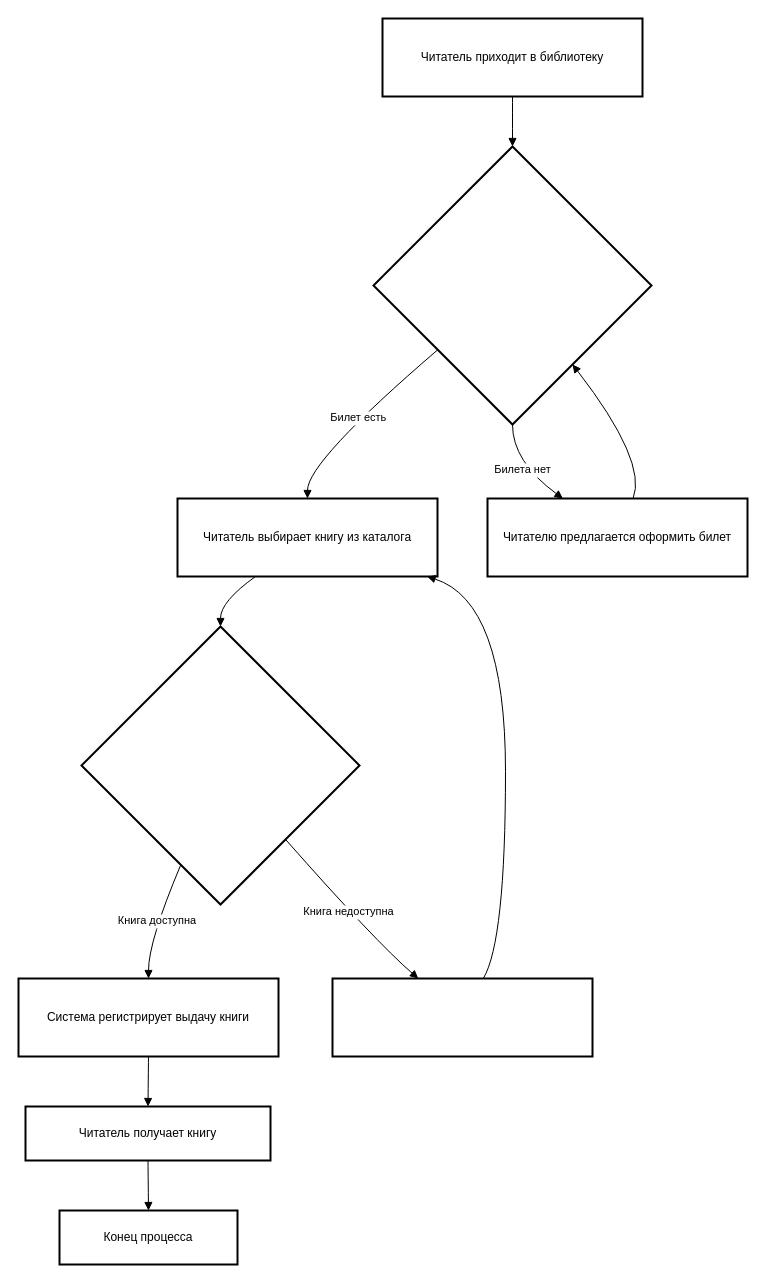
This 765x1282 diagram has some shape labels left out. Each missing label, with the centre of its shape:
"Проверяется доступность книги" belongs at point 220,765.
"Проверяется наличие читательского билета" belongs at point 512,285.
"Читателю предлагается выбрать другую книгу" belongs at point 462,1017.
